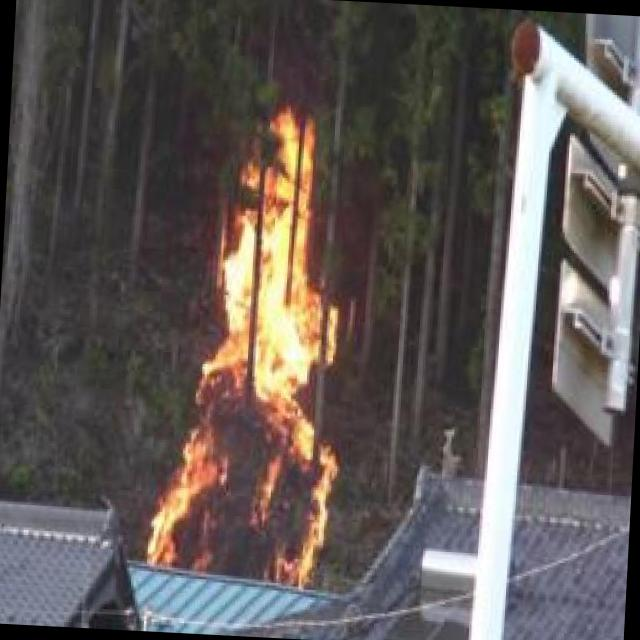Fire: (156, 98, 360, 586)
